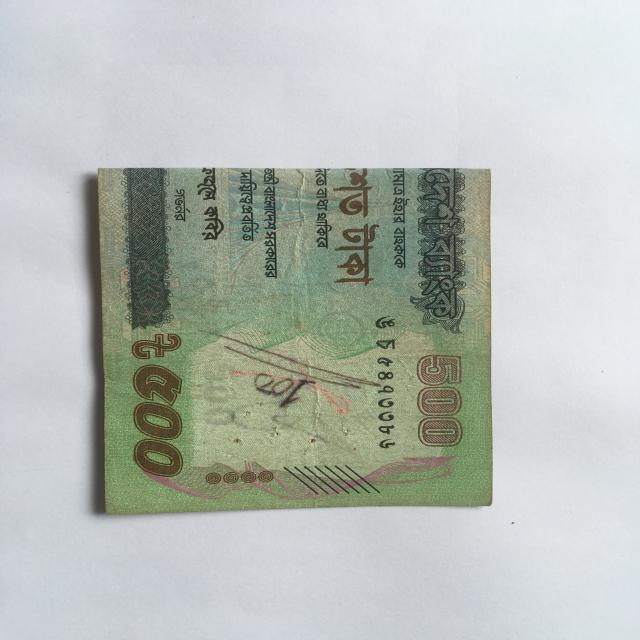Taka: (89, 163, 500, 512)
